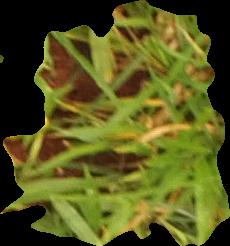grass: (1, 1, 229, 245)
